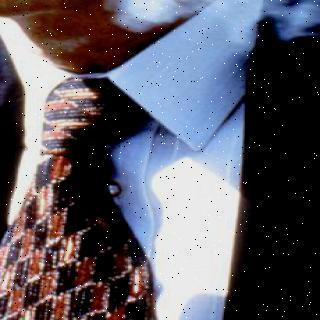smoke: (0, 0, 320, 40)
